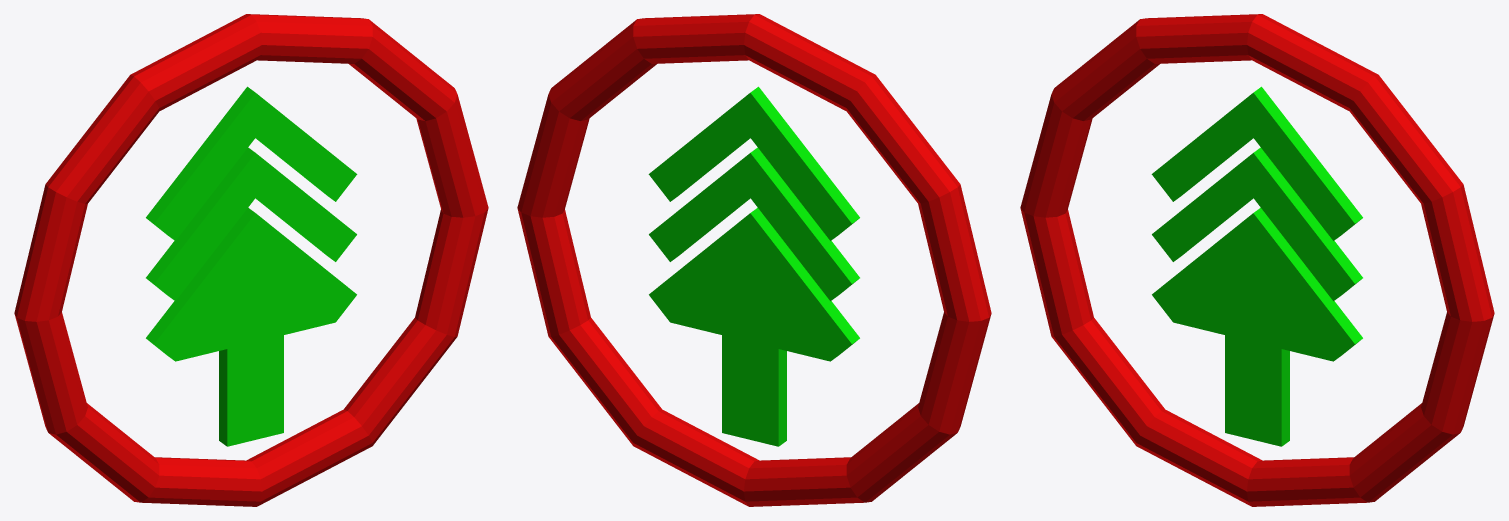
Rendered from DoubleArrow.fbx.
3 renders of one model, left to right at view 1: azimuth 30°, elevation 25°; view 2: azimuth 150°, elevation 25°; view 3: azimuth 330°, elevation 25°, orthographic.
Visible parts, largest first — view 1: polySurface7; view 2: polySurface7; view 3: polySurface7.
Part boxes in pixels (x1,y1,x2,y2): polySurface7: [14, 14, 488, 506]; polySurface7: [517, 14, 991, 506]; polySurface7: [1020, 14, 1494, 506].
Bounding box in the file's own units: 19.12 × 19.12 × 1.5.
